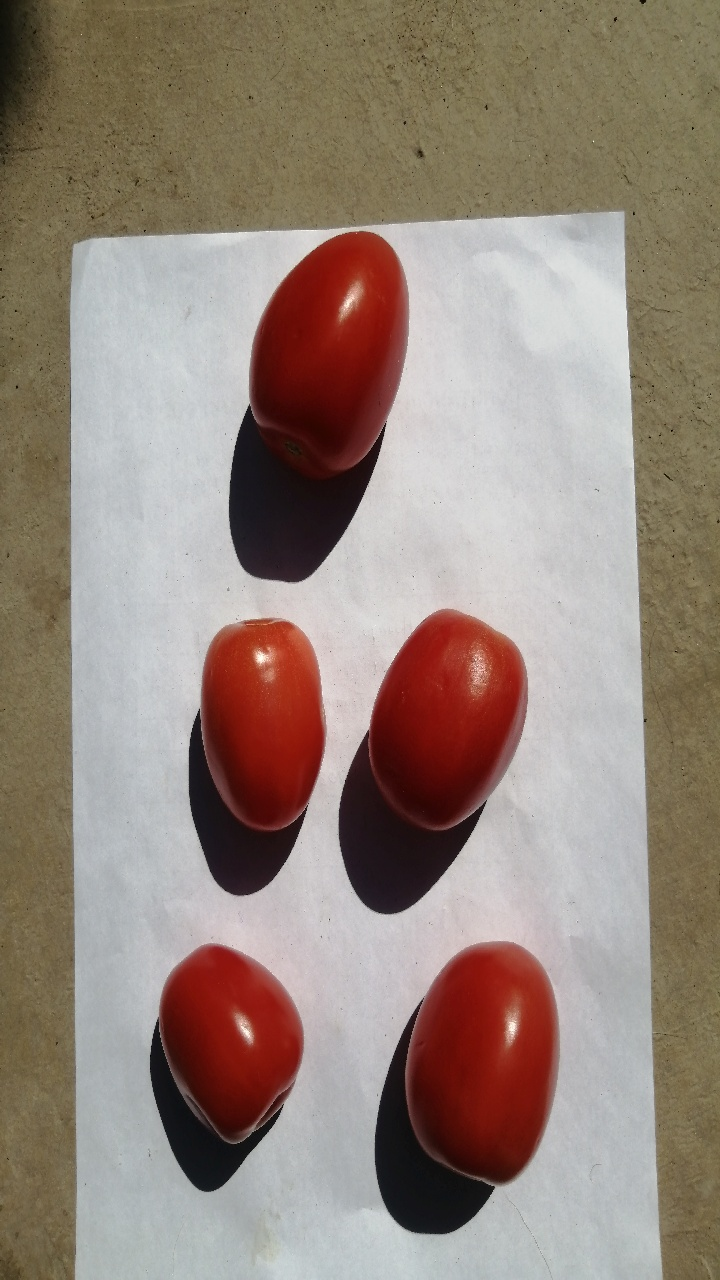tomateRojo: (360, 935, 584, 1214), (215, 219, 421, 492), (349, 592, 541, 859), (140, 928, 311, 1174), (197, 611, 334, 848)
